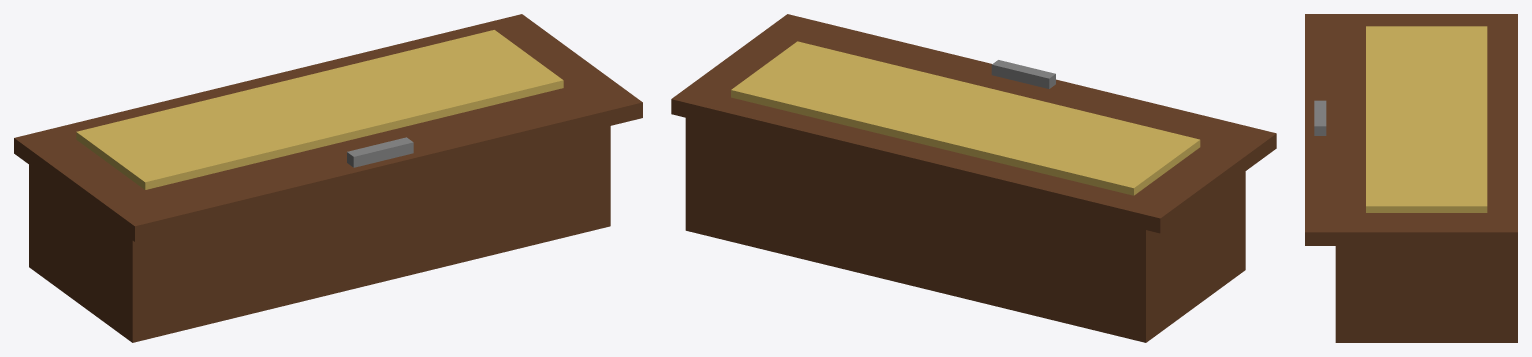
Rendered from graintrough.glb.
The picture shows the model from 3 angles, left to right: view 1: azimuth 30°, elevation 25°; view 2: azimuth 150°, elevation 25°; view 3: azimuth 270°, elevation 25°; orthographic projection. The views are drawn at different scales.
Parts seen in each view (by area): view 1: graintrough, lid_group; view 2: graintrough, lid_group; view 3: graintrough, lid_group.
Boxes of the visible parts, x1,y1,x2,y2 form: graintrough: (29, 30, 610, 342); lid_group: (14, 14, 642, 241); graintrough: (685, 41, 1245, 342); lid_group: (671, 14, 1276, 233); graintrough: (1335, 26, 1517, 342); lid_group: (1305, 14, 1517, 245).
Size of the model in its own units: 1.7 by 0.46 by 0.7.
